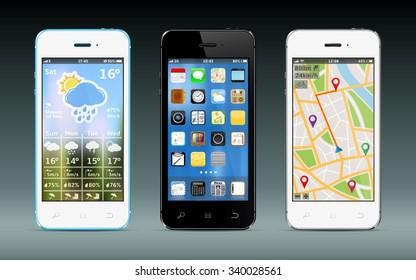mobile: (33, 28, 131, 232), (284, 27, 381, 232), (161, 29, 257, 230)
